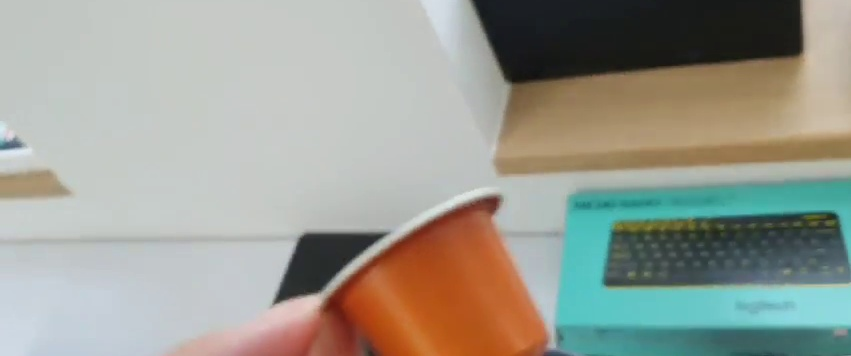capsule_5: (319, 183, 550, 356)
